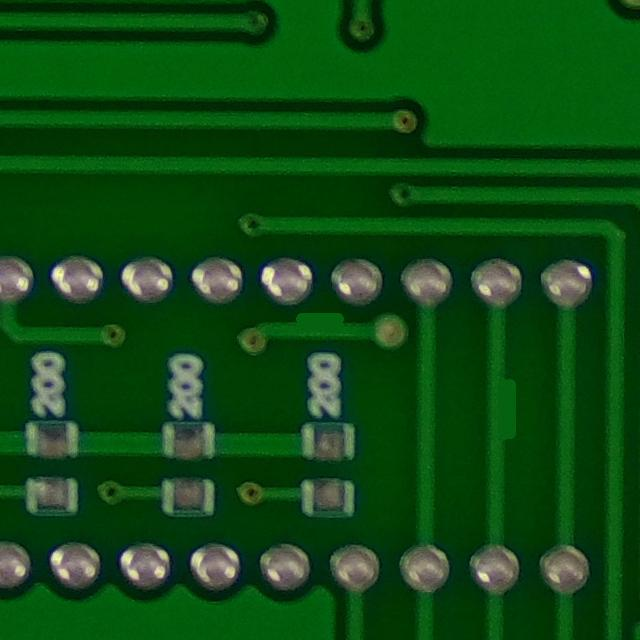spur: (288, 299, 353, 342)
